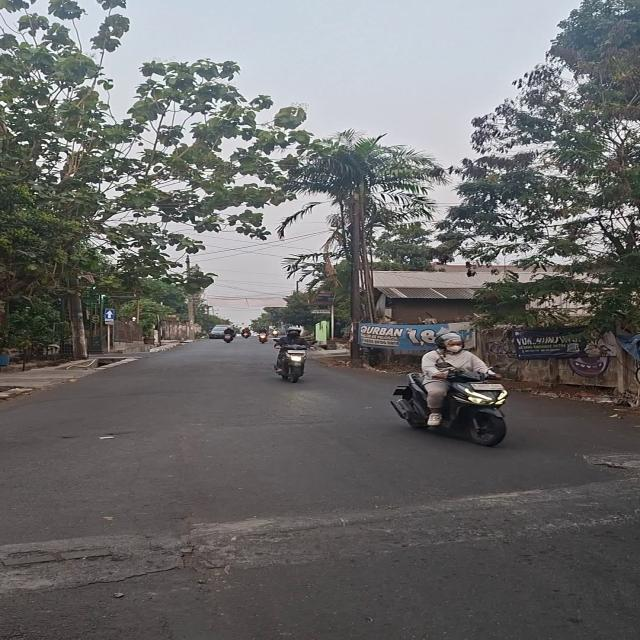WithHelmet: (420, 333, 502, 428), (274, 326, 315, 374), (223, 325, 237, 339), (257, 326, 270, 338), (270, 325, 280, 334)
